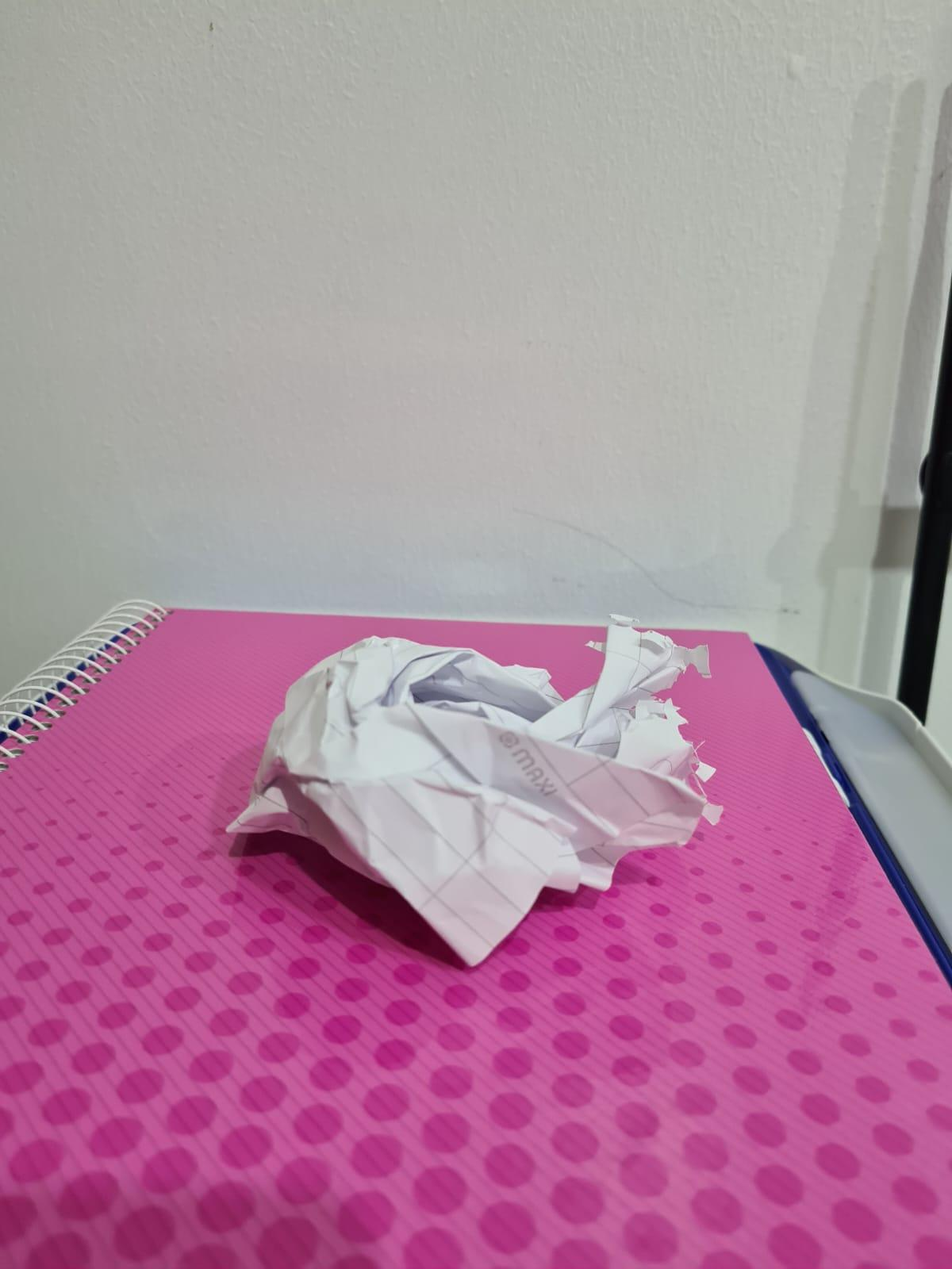paper: (286, 627, 698, 899)
